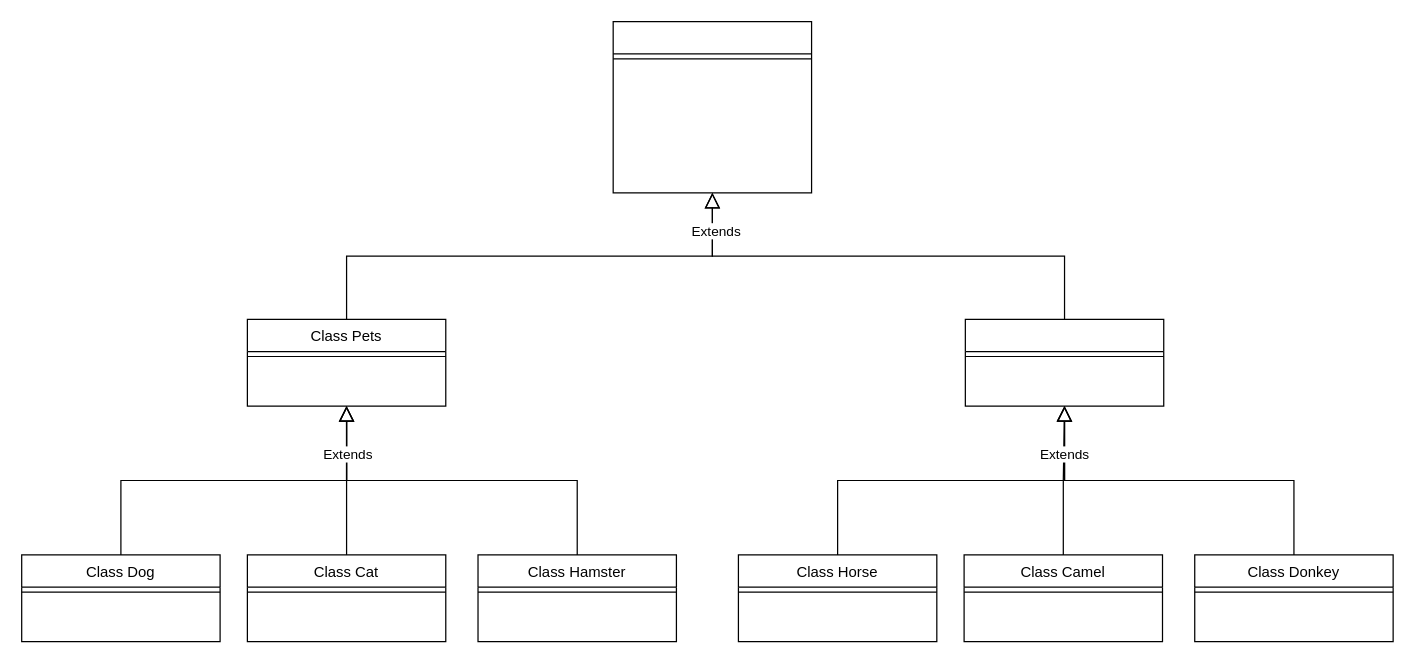
The diagram is 1415 pixels wide and 663 high, and some of its shapes have lost their labels. The shapes that lost their labels are listed below. From the top down, each one's centre as x and y in pixels, then its label:
the point at 712,106: Class HumanFrinds
the point at 1064,362: Class PacAnimals
